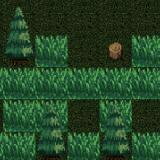Obstacle: (100, 35, 132, 67), (3, 35, 35, 66), (35, 132, 68, 160), (100, 132, 132, 160)
Slow: (0, 68, 160, 99), (3, 99, 68, 132), (35, 35, 69, 68), (100, 99, 132, 132), (0, 132, 35, 160), (67, 132, 100, 160), (132, 35, 160, 67), (132, 132, 160, 160)
